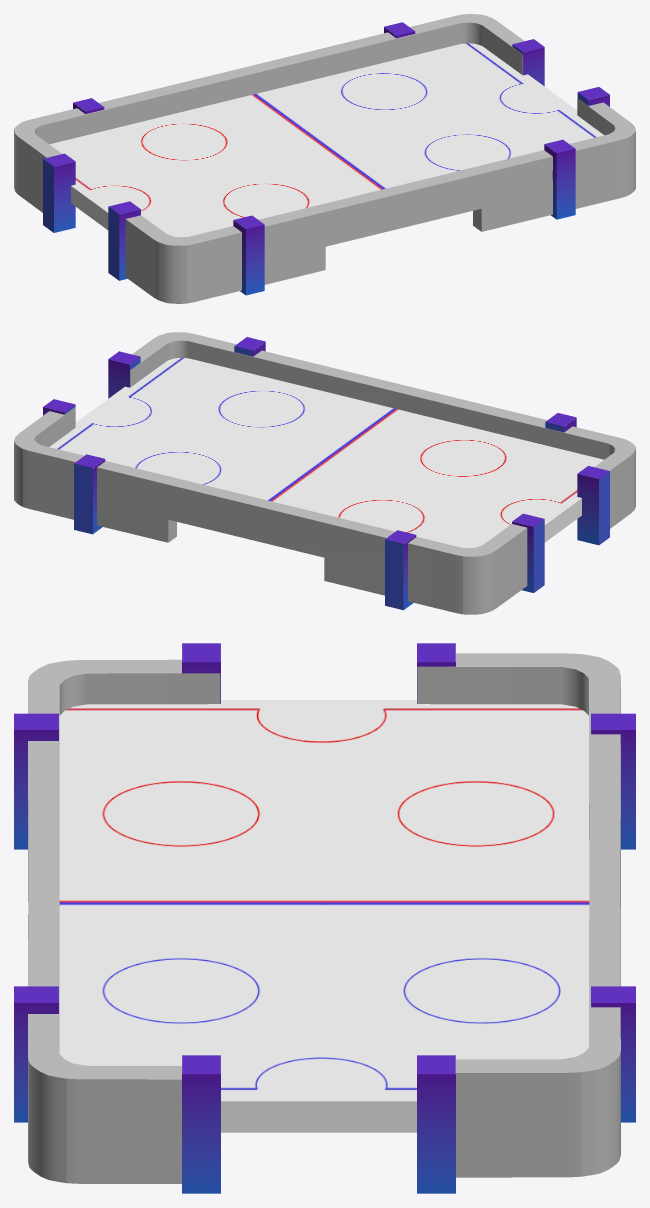
File: stagekari.fbx
3 renders of one model, top to bottom at view 1: azimuth 30°, elevation 25°; view 2: azimuth 150°, elevation 25°; view 3: azimuth 270°, elevation 25°, orthographic. The views are drawn at different scales.
Visible parts, largest first — view 1: pCube1, polySurface8, pCube10; view 2: pCube1, polySurface8, pCube10; view 3: pCube1, polySurface8, pCube10.
Boxes of the visible parts, x1,y1,x2,y2 form: pCube1: (49,43,603,237); polySurface8: (14,14,635,303); pCube10: (43,22,609,295); pCube1: (49,358,603,547); polySurface8: (14,332,635,614); pCube10: (43,337,609,610); pCube1: (59,700,589,1132); polySurface8: (28,653,620,1183); pCube10: (14,643,635,1193).
Bounding box in the file's own units: 14.74 × 1.91 × 8.99.
